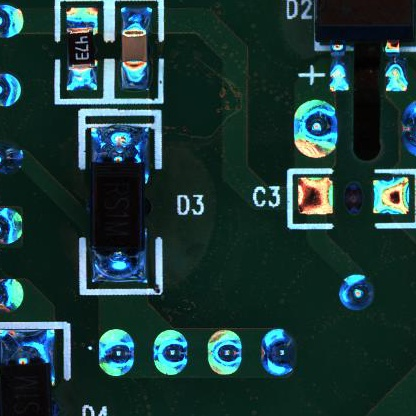spot: (293, 99, 339, 158), (259, 328, 297, 380), (98, 329, 135, 378), (152, 329, 189, 377), (206, 328, 243, 376), (338, 274, 374, 311)
